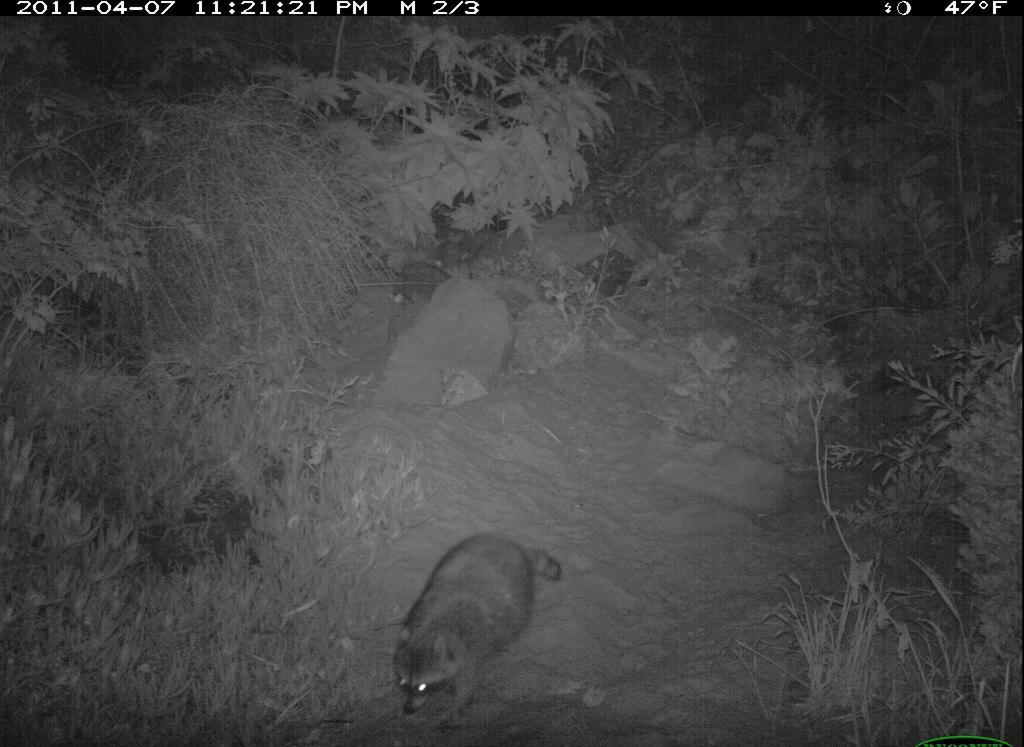raccoon: (378, 532, 575, 716)
